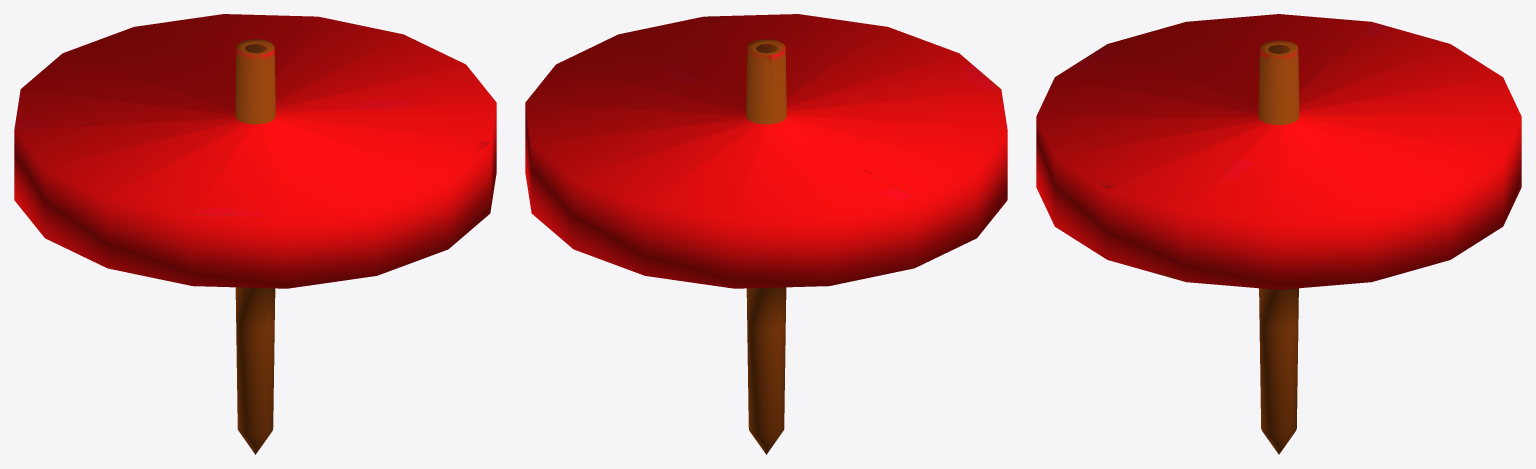
Rendered from SpininngTopComplete2.fbx.
3 renders of one model, left to right at view 1: azimuth 30°, elevation 25°; view 2: azimuth 150°, elevation 25°; view 3: azimuth 270°, elevation 25°, orthographic.
Visible parts, largest first — view 1: Vert.001; view 2: Vert.001; view 3: Vert.001.
Boxes of the visible parts, x1=… form: Vert.001: x1=14, y1=14, x2=496, y2=454; Vert.001: x1=525, y1=14, x2=1007, y2=454; Vert.001: x1=1036, y1=14, x2=1521, y2=454.
Bounding box in the file's own units: 330 × 305 × 330.
